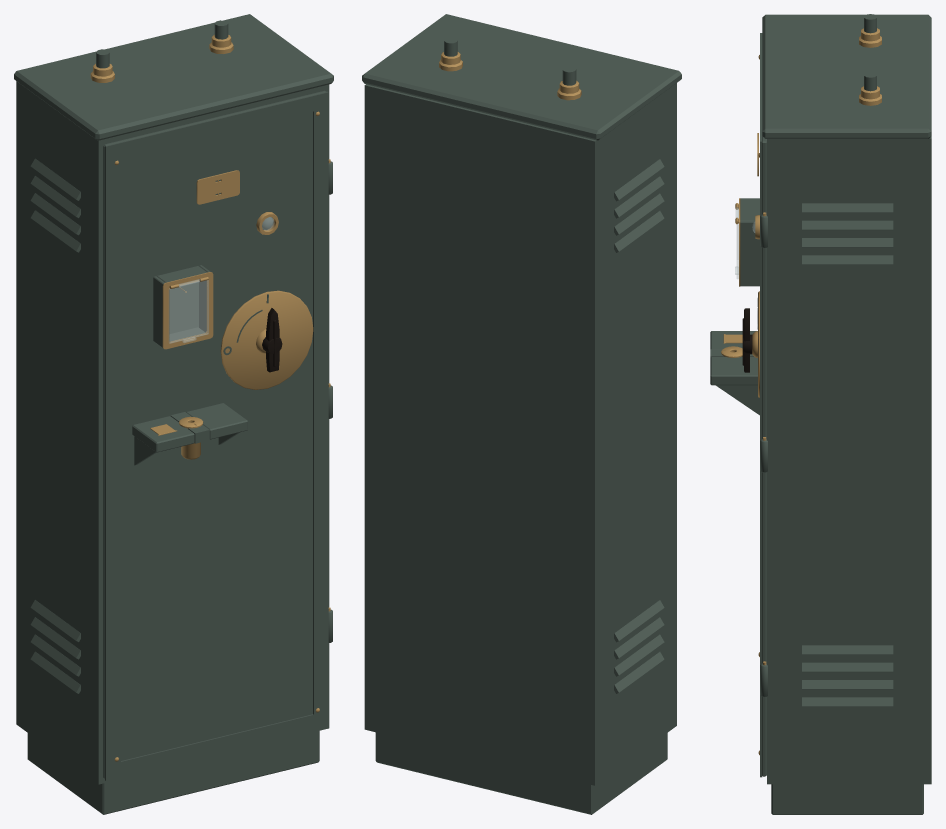
The model's file is switch_cabinet.glb.
The picture shows the model from 3 angles, left to right: view 1: azimuth 30°, elevation 25°; view 2: azimuth 150°, elevation 25°; view 3: azimuth 270°, elevation 25°; orthographic projection.
Visible parts, largest first — view 1: switch_cabinet, IA_key_window, num_1, IA_isolator; view 2: switch_cabinet; view 3: switch_cabinet, IA_isolator.
Boxes of the visible parts, x1,y1,x2,y2 form: switch_cabinet: (14,14,333,814); IA_key_window: (169,279,208,343); num_1: (196,170,239,204); IA_isolator: (262,308,282,372); switch_cabinet: (362,14,681,814); switch_cabinet: (710,14,931,814); IA_isolator: (742,308,752,372).
Size of the model in its own units: 0.73 by 2.08 by 0.58.
